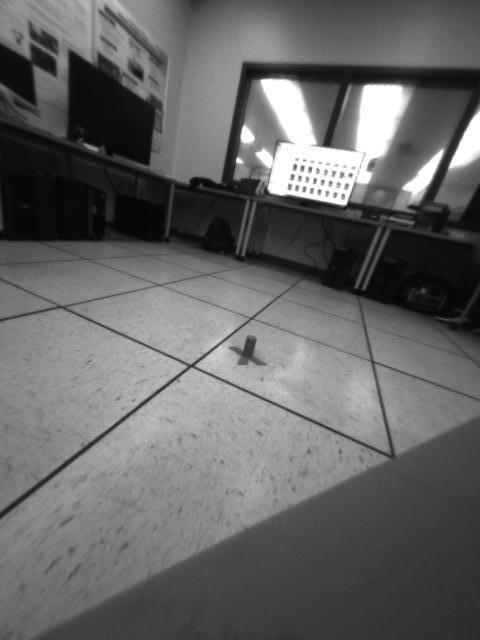X: (229, 333, 269, 368)
